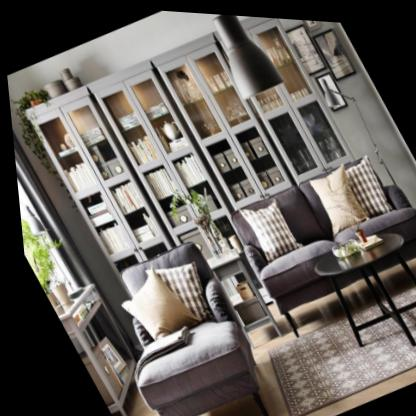Sofa: (211, 130, 416, 346), (70, 229, 286, 416)
Table: (299, 211, 416, 366)
